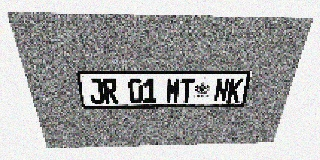0: (128, 78, 143, 103)
1: (143, 78, 157, 103)
J: (87, 78, 105, 104)
K: (226, 78, 244, 102)
M: (166, 78, 180, 103)
N: (213, 78, 230, 102)
R: (102, 78, 119, 104)
T: (179, 78, 195, 103)
